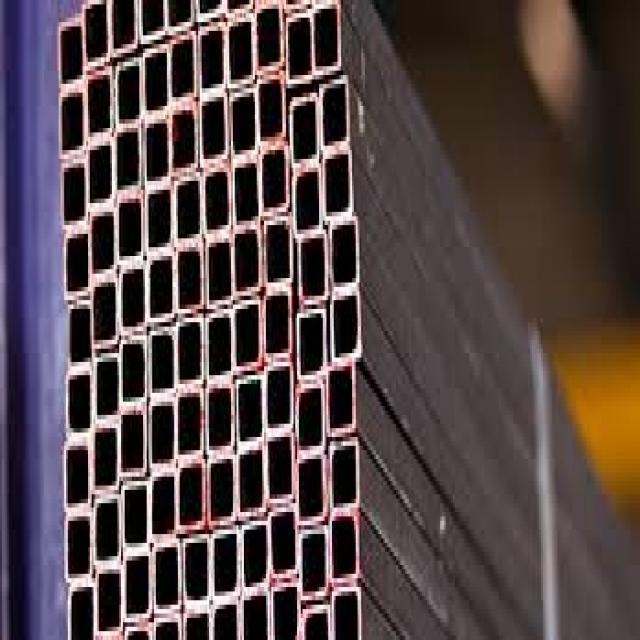pipe: (301, 530, 328, 599), (59, 16, 84, 87), (150, 405, 176, 473), (299, 235, 327, 298), (332, 294, 360, 356), (264, 296, 292, 358), (122, 552, 150, 614), (257, 8, 284, 71), (122, 483, 149, 546), (204, 169, 230, 234), (330, 226, 358, 286), (271, 583, 301, 639), (184, 542, 210, 606), (207, 388, 233, 452), (206, 237, 232, 301), (153, 546, 179, 610), (294, 169, 322, 228), (62, 162, 87, 228), (266, 438, 292, 501), (92, 282, 118, 345), (149, 256, 174, 321), (237, 384, 264, 444), (261, 150, 288, 210), (146, 190, 173, 250), (332, 514, 358, 576), (84, 0, 108, 67), (327, 372, 355, 429), (212, 537, 240, 594), (264, 225, 292, 282), (234, 232, 260, 293), (233, 162, 259, 223), (178, 176, 202, 242), (122, 340, 146, 406), (298, 388, 326, 444), (168, 44, 196, 100), (298, 456, 324, 516), (270, 516, 296, 576), (88, 144, 114, 204), (209, 462, 234, 524), (207, 317, 231, 381), (150, 332, 174, 396), (66, 446, 90, 510), (178, 466, 204, 525), (202, 103, 228, 162), (172, 109, 197, 170), (120, 412, 144, 475), (322, 90, 348, 148), (228, 25, 254, 83), (150, 478, 176, 536), (66, 518, 92, 576), (331, 447, 356, 507), (67, 374, 92, 434), (178, 394, 202, 456), (200, 32, 224, 94), (118, 198, 142, 260), (122, 267, 146, 329), (95, 502, 119, 564), (266, 371, 292, 428), (231, 97, 257, 154), (94, 362, 120, 419), (325, 157, 350, 216), (238, 453, 263, 512), (293, 104, 319, 160), (258, 82, 284, 138), (94, 427, 117, 490), (234, 308, 258, 368), (178, 322, 202, 382), (86, 77, 112, 132), (287, 22, 312, 79), (70, 583, 95, 640), (68, 304, 90, 368), (313, 10, 339, 64), (243, 530, 269, 584), (143, 56, 168, 112), (117, 131, 140, 191), (98, 570, 121, 630), (66, 236, 89, 296), (92, 213, 114, 275), (299, 315, 325, 367), (242, 589, 268, 640), (111, 1, 136, 54), (60, 95, 84, 150), (333, 589, 360, 637), (116, 70, 140, 124), (146, 122, 168, 180), (180, 248, 200, 311), (212, 597, 240, 640), (140, 0, 166, 41)
